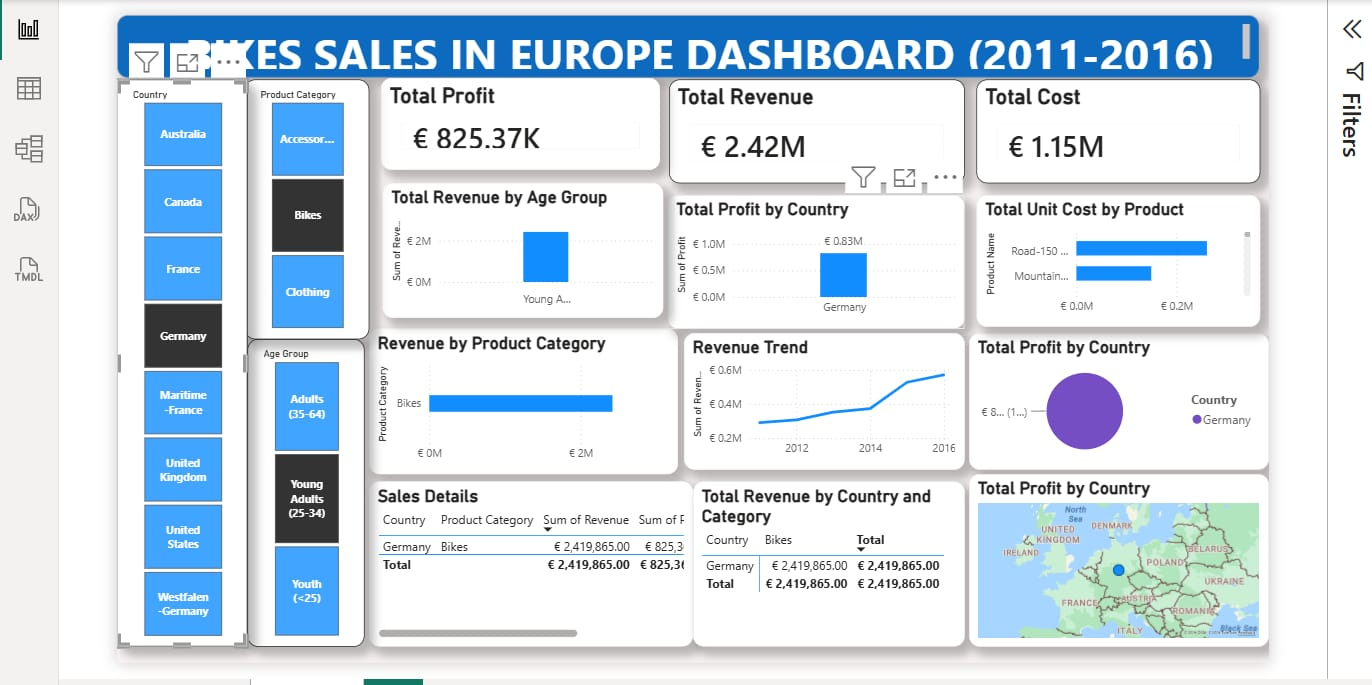

Layout of this report page (visuals, bound fields, positions):
{"tool":"powerbi","page":{"name":"Page 1","canvas":[1280,720],"ordinal":0},"visuals":[{"type":"textbox","box":[10.2,0,1258.5,89.3],"z":0},{"type":"cardVisual","title":"Total Profit","fields":{"Data":["Sum(Sales.Profit)"]},"box":[263.5,89.3,315.4,109.4],"z":1000},{"type":"cardVisual","title":"Total Revenue","fields":{"Data":["Sum(Sales.Revenue)"]},"box":[592.9,88.6,362.9,110],"z":2000},{"type":"cardVisual","title":"Total Cost","fields":{"Data":["Sum(Sales.Unit Cost)"]},"box":[969.1,89.3,299.5,109.4],"z":3000},{"type":"clusteredColumnChart","title":"Total Revenue by Age Group","fields":{"Y":["Sum(Sales.Revenue)"],"Category":["Sales.Age Group"]},"box":[263.5,210.2,315.4,162.7],"z":4000},{"type":"clusteredColumnChart","title":"Total Profit by Country","fields":{"Category":["Sales.Country"],"Y":["Sum(Sales.Profit)"]},"box":[593.3,210.2,351.4,162.7],"z":5000},{"type":"clusteredBarChart","title":"Total Unit Cost by Product ","fields":{"Category":["Sales.Product Name"],"Y":["Sum(Sales.Unit Cost)"]},"box":[955.7,210,312.9,162.9],"z":6000},{"type":"lineChart","title":"Revenue Trend","fields":{"Category":["Sales.Sales Date.Variation.Date Hierarchy.Year","Sales.Sales Date.Variation.Date Hierarchy.Quarter","Sales.Sales Date.Variation.Date Hierarchy.Month","Sales.Sales Date.Variation.Date Hierarchy.Day"],"Y":["Sum(Sales.Revenue)"]},"box":[601.9,384.5,329.8,151.2],"z":7000},{"type":"pieChart","title":"Total Profit by Country","fields":{"Category":["Sales.Country"],"Y":["Sum(Sales.Profit)"]},"box":[944.6,384.5,324,149.8],"z":8000},{"type":"tableEx","title":"Sales Details","fields":{"Values":["Sales.Country","Sales.Product Category","Sum(Sales.Revenue)","Sum(Sales.Profit)"]},"box":[253.4,541.4,365.8,178.6],"z":9000},{"type":"pivotTable","title":"Total Revenue by Country and Category","fields":{"Rows":["Sales.Country"],"Columns":["Sales.Product Category"],"Values":["Sum(Sales.Revenue)"]},"box":[619.2,541.4,312.5,178.6],"z":10000},{"type":"azureMap","title":"Total Profit by Country","fields":{"Category":["Sales.Country"],"Size":["Sum(Sales.Profit)"]},"box":[944.3,541.4,324.3,178.6],"z":11000},{"type":"slicer","title":"Country","fields":{"Values":["Sales.Country"]},"box":[0,89.3,131,630.7],"z":12000},{"type":"slicer","title":"Product Category","fields":{"Values":["Sales.Product Category"]},"box":[131,89.3,122.4,273.6],"z":13000},{"type":"slicer","title":"Age Group","fields":{"Values":["Sales.Age Group"]},"box":[131,362.9,122.4,357.1],"z":14000},{"type":"clusteredBarChart","title":" Revenue by Product Category","fields":{"Category":["Sales.Product Category","Sales.Product Subcategory"],"Y":["Sum(Sales.Revenue)"]},"box":[254.3,384.3,338.6,151.4],"z":15000}]}

Visuals, with their boxes in screenshot pixels (x1, y1, x2, y2):
textbox: pyautogui.locateOnScreen(138, 0, 1278, 70)
"Total Profit" cardVisual: pyautogui.locateOnScreen(367, 70, 653, 169)
"Total Revenue" cardVisual: pyautogui.locateOnScreen(666, 70, 995, 169)
"Total Cost" cardVisual: pyautogui.locateOnScreen(1007, 70, 1278, 169)
"Total Revenue by Age Group" clusteredColumnChart: pyautogui.locateOnScreen(367, 180, 653, 327)
"Total Profit by Country" clusteredColumnChart: pyautogui.locateOnScreen(666, 180, 985, 327)
"Total Unit Cost by Product " clusteredBarChart: pyautogui.locateOnScreen(995, 180, 1278, 327)
"Revenue Trend" lineChart: pyautogui.locateOnScreen(674, 338, 973, 475)
"Total Profit by Country" pieChart: pyautogui.locateOnScreen(985, 338, 1278, 474)
"Sales Details" tableEx: pyautogui.locateOnScreen(358, 480, 690, 642)
"Total Revenue by Country and Category" pivotTable: pyautogui.locateOnScreen(690, 480, 973, 642)
"Total Profit by Country" azureMap: pyautogui.locateOnScreen(984, 480, 1278, 642)
"Country" slicer: pyautogui.locateOnScreen(129, 70, 247, 642)
"Product Category" slicer: pyautogui.locateOnScreen(247, 70, 358, 318)
"Age Group" slicer: pyautogui.locateOnScreen(247, 318, 358, 642)
" Revenue by Product Category" clusteredBarChart: pyautogui.locateOnScreen(359, 338, 666, 475)
